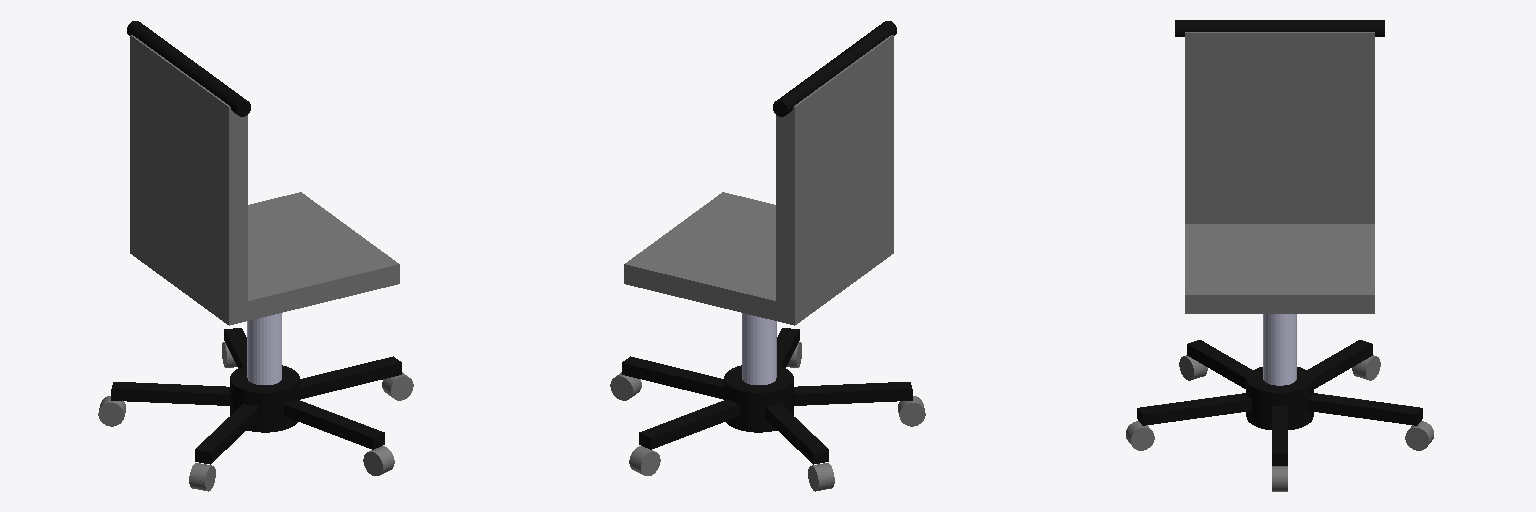
robot.urdf — office_chair:
<?xml version="1.0" ?>
<robot name="office_chair">

  <material name="black">
    <color rgba="0.1 0.1 0.1 1"/>
  </material>
  <material name="grey">
    <color rgba="0.5 0.5 0.5 1"/>
  </material>
  <material name="chrome">
    <color rgba="0.8 0.8 0.9 1"/>
  </material>
  <material name="red_target">
    <color rgba="1.0 0.0 0.0 1"/>
  </material>

  <link name="world"/>

  <link name="slide_link_x">
    <inertial>
        <mass value="0.01"/>
        <origin rpy="0 0 0" xyz="0 0 0"/>
        <inertia ixx="0.001" ixy="0" ixz="0" iyy="0.001" iyz="0" izz="0.001"/>
    </inertial>
  </link>

  <joint name="floor_slide_x" type="prismatic">
    <parent link="world"/>
    <child link="slide_link_x"/>
    <origin rpy="0 0 0" xyz="0 0 0"/>
    <axis xyz="1 0 0"/>
    <limit effort="1000" lower="-10.0" upper="10.0" velocity="5.0"/>
    <dynamics damping="10.0" friction="5.0"/>
  </joint>

  <link name="slide_link_y">
     <inertial>
        <mass value="0.01"/>
        <origin rpy="0 0 0" xyz="0 0 0"/>
        <inertia ixx="0.001" ixy="0" ixz="0" iyy="0.001" iyz="0" izz="0.001"/>
    </inertial>
  </link>

  <joint name="floor_slide_y" type="prismatic">
    <parent link="slide_link_x"/>
    <child link="slide_link_y"/>
    <origin rpy="0 0 0" xyz="0 0 0"/>
    <axis xyz="0 1 0"/>
    <limit effort="1000" lower="-10.0" upper="10.0" velocity="5.0"/>
    <dynamics damping="10.0" friction="5.0"/>
  </joint>

  <joint name="floor_rotate_z" type="continuous">
    <parent link="slide_link_y"/>
    <child link="base_link"/>
    <origin rpy="0 0 0" xyz="0 0 0.1"/>
    <axis xyz="0 0 1"/>
    <dynamics damping="1.0" friction="1.0"/>
  </joint>


  <link name="base_link">
    <visual>
      <geometry>
        <cylinder length="0.1" radius="0.08"/>
      </geometry>
      <material name="black"/>
    </visual>
    <collision>
      <geometry>
        <cylinder length="0.1" radius="0.08"/>
      </geometry>
    </collision>
    <inertial>
      <mass value="5.0"/>
      <origin rpy="0 0 0" xyz="0 0 0"/>
      <inertia ixx="0.1" ixy="0" ixz="0" iyy="0.1" iyz="0" izz="0.1"/>
    </inertial>
  </link>

  <link name="leg_1">
    <visual>
      <origin rpy="0 0 0" xyz="0.175 0 0"/>
      <geometry>
        <box size="0.35 0.04 0.03"/>
      </geometry>
      <material name="black"/>
    </visual>
    <visual>
      <origin rpy="1.5708 0 0" xyz="0.35 0 -0.05"/>
      <geometry>
        <cylinder length="0.04" radius="0.03"/>
      </geometry>
      <material name="grey"/>
    </visual>
    <collision>
      <origin rpy="0 0 0" xyz="0.175 0 -0.02"/>
      <geometry>
         <box size="0.35 0.05 0.1"/>
      </geometry>
    </collision>
    <inertial>
      <mass value="0.5"/>
      <inertia ixx="0.01" ixy="0" ixz="0" iyy="0.01" iyz="0" izz="0.01"/>
    </inertial>
  </link>
  <joint name="base_to_leg_1" type="fixed">
    <parent link="base_link"/>
    <child link="leg_1"/>
    <origin rpy="0 0 0" xyz="0 0 0"/>
  </joint>

  <link name="leg_2">
    <visual>
      <origin rpy="0 0 0" xyz="0.175 0 0"/>
      <geometry>
        <box size="0.35 0.04 0.03"/>
      </geometry>
      <material name="black"/>
    </visual>
    <visual>
      <origin rpy="1.5708 0 0" xyz="0.35 0 -0.05"/>
      <geometry>
        <cylinder length="0.04" radius="0.03"/>
      </geometry>
      <material name="grey"/>
    </visual>
    <collision>
      <origin rpy="0 0 0" xyz="0.175 0 -0.02"/>
      <geometry>
         <box size="0.35 0.05 0.1"/>
      </geometry>
    </collision>
    <inertial>
      <mass value="0.5"/>
      <inertia ixx="0.01" ixy="0" ixz="0" iyy="0.01" iyz="0" izz="0.01"/>
    </inertial>
  </link>
  <joint name="base_to_leg_2" type="fixed">
    <parent link="base_link"/>
    <child link="leg_2"/>
    <origin rpy="0 0 1.2566" xyz="0 0 0"/>
  </joint>

  <link name="leg_3">
    <visual>
      <origin rpy="0 0 0" xyz="0.175 0 0"/>
      <geometry>
        <box size="0.35 0.04 0.03"/>
      </geometry>
      <material name="black"/>
    </visual>
    <visual>
      <origin rpy="1.5708 0 0" xyz="0.35 0 -0.05"/>
      <geometry>
        <cylinder length="0.04" radius="0.03"/>
      </geometry>
      <material name="grey"/>
    </visual>
    <collision>
      <origin rpy="0 0 0" xyz="0.175 0 -0.02"/>
      <geometry>
         <box size="0.35 0.05 0.1"/>
      </geometry>
    </collision>
    <inertial>
      <mass value="0.5"/>
      <inertia ixx="0.01" ixy="0" ixz="0" iyy="0.01" iyz="0" izz="0.01"/>
    </inertial>
  </link>
  <joint name="base_to_leg_3" type="fixed">
    <parent link="base_link"/>
    <child link="leg_3"/>
    <origin rpy="0 0 2.5132" xyz="0 0 0"/>
  </joint>

  <link name="leg_4">
    <visual>
      <origin rpy="0 0 0" xyz="0.175 0 0"/>
      <geometry>
        <box size="0.35 0.04 0.03"/>
      </geometry>
      <material name="black"/>
    </visual>
    <visual>
      <origin rpy="1.5708 0 0" xyz="0.35 0 -0.05"/>
      <geometry>
        <cylinder length="0.04" radius="0.03"/>
      </geometry>
      <material name="grey"/>
    </visual>
    <collision>
      <origin rpy="0 0 0" xyz="0.175 0 -0.02"/>
      <geometry>
         <box size="0.35 0.05 0.1"/>
      </geometry>
    </collision>
    <inertial>
      <mass value="0.5"/>
      <inertia ixx="0.01" ixy="0" ixz="0" iyy="0.01" iyz="0" izz="0.01"/>
    </inertial>
  </link>
  <joint name="base_to_leg_4" type="fixed">
    <parent link="base_link"/>
    <child link="leg_4"/>
    <origin rpy="0 0 3.7699" xyz="0 0 0"/>
  </joint>

  <link name="leg_5">
    <visual>
      <origin rpy="0 0 0" xyz="0.175 0 0"/>
      <geometry>
        <box size="0.35 0.04 0.03"/>
      </geometry>
      <material name="black"/>
    </visual>
    <visual>
      <origin rpy="1.5708 0 0" xyz="0.35 0 -0.05"/>
      <geometry>
        <cylinder length="0.04" radius="0.03"/>
      </geometry>
      <material name="grey"/>
    </visual>
    <collision>
      <origin rpy="0 0 0" xyz="0.175 0 -0.02"/>
      <geometry>
         <box size="0.35 0.05 0.1"/>
      </geometry>
    </collision>
    <inertial>
      <mass value="0.5"/>
      <inertia ixx="0.01" ixy="0" ixz="0" iyy="0.01" iyz="0" izz="0.01"/>
    </inertial>
  </link>
  <joint name="base_to_leg_5" type="fixed">
    <parent link="base_link"/>
    <child link="leg_5"/>
    <origin rpy="0 0 5.0265" xyz="0 0 0"/>
  </joint>

  <link name="rod_link">
    <visual>
      <origin rpy="0 0 0" xyz="0 0 0.15"/>
      <geometry>
        <cylinder length="0.3" radius="0.04"/>
      </geometry>
      <material name="chrome"/>
    </visual>
    <collision>
      <origin rpy="0 0 0" xyz="0 0 0.15"/>
      <geometry>
        <cylinder length="0.3" radius="0.04"/>
      </geometry>
    </collision>
    <inertial>
      <mass value="2.0"/>
      <inertia ixx="0.05" ixy="0" ixz="0" iyy="0.05" iyz="0" izz="0.05"/>
    </inertial>
  </link>

  <joint name="seat_swivel" type="continuous">
    <parent link="base_link"/>
    <child link="rod_link"/>
    <origin rpy="0 0 0" xyz="0 0 0.05"/>
    <axis xyz="0 0 1"/>
    <dynamics damping="1.0" friction="0.5"/>
  </joint>

  <link name="seat_surface_link">
    <visual>
      <geometry>
        <box size="0.45 0.45 0.05"/>
      </geometry>
      <material name="grey"/>
    </visual>
    <collision>
      <geometry>
        <box size="0.45 0.45 0.05"/>
      </geometry>
    </collision>
    <inertial>
      <mass value="3.0"/>
      <inertia ixx="0.05" ixy="0" ixz="0" iyy="0.05" iyz="0" izz="0.05"/>
    </inertial>
  </link>

  <joint name="rod_to_seat" type="fixed">
    <parent link="rod_link"/>
    <child link="seat_surface_link"/>
    <origin rpy="0 0 0" xyz="0 0 0.3"/>
  </joint>

  <link name="backrest_link">
    <visual>
      <origin rpy="0 0 0" xyz="0 0 0.25"/>
      <geometry>
        <box size="0.05 0.45 0.5"/>
      </geometry>
      <material name="grey"/>
    </visual>
    <collision>
      <origin rpy="0 0 0" xyz="0 0 0.25"/>
      <geometry>
        <box size="0.05 0.45 0.5"/>
      </geometry>
    </collision>
    <inertial>
      <mass value="2.0"/>
      <inertia ixx="0.05" ixy="0" ixz="0" iyy="0.05" iyz="0" izz="0.05"/>
    </inertial>
  </link>

  <joint name="seat_to_backrest" type="fixed">
    <parent link="seat_surface_link"/>
    <child link="backrest_link"/>
    <origin rpy="0 0 0" xyz="-0.2 0 0.025"/>
  </joint>

  <link name="handle_link">
    <visual>
      <geometry>
        <cylinder length="0.5" radius="0.02"/>
      </geometry>
      <material name="black"/>
    </visual>
    <collision>
      <geometry>
        <cylinder length="0.5" radius="0.02"/>
      </geometry>
    </collision>
    <inertial>
      <mass value="0.5"/>
      <inertia ixx="0.01" ixy="0" ixz="0" iyy="0.01" iyz="0" izz="0.01"/>
    </inertial>
  </link>

  <joint name="backrest_to_handle" type="fixed">
    <parent link="backrest_link"/>
    <child link="handle_link"/>
    <origin rpy="1.5708 0 0" xyz="0 0 0.5"/>
  </joint>

  <link name="target_left_link">
    <visual>
      <geometry>
        <sphere radius="0.015"/>
      </geometry>
      <material name="red_target"/>
    </visual>
    <inertial>
      <mass value="0.01"/>
      <inertia ixx="0.001" ixy="0" ixz="0" iyy="0.001" iyz="0" izz="0.001"/>
    </inertial>
  </link>

  <joint name="handle_to_target_left" type="fixed">
    <parent link="handle_link"/>
    <child link="target_left_link"/>
    <origin rpy="0 0 0" xyz="0 0 0.2"/>
  </joint>

  <link name="target_right_link">
    <visual>
      <geometry>
        <sphere radius="0.015"/>
      </geometry>
      <material name="red_target"/>
    </visual>
    <inertial>
      <mass value="0.01"/>
      <inertia ixx="0.001" ixy="0" ixz="0" iyy="0.001" iyz="0" izz="0.001"/>
    </inertial>
  </link>

  <joint name="handle_to_target_right" type="fixed">
    <parent link="handle_link"/>
    <child link="target_right_link"/>
    <origin rpy="0 0 0" xyz="0 0 -0.2"/>
  </joint>

</robot>

<!-- <?xml version="1.0" ?>
<robot name="office_chair">

  <material name="black">
    <color rgba="0.1 0.1 0.1 1"/>
  </material>
  <material name="grey">
    <color rgba="0.5 0.5 0.5 1"/>
  </material>
  <material name="chrome">
    <color rgba="0.8 0.8 0.9 1"/>
  </material>
  <material name="red_target">
    <color rgba="1.0 0.0 0.0 1"/>
  </material>

  <link name="world"/>

  <link name="slide_link_x">
    <inertial>
      <mass value="0.1"/>
      <origin rpy="0 0 0" xyz="0 0 0"/>
      <inertia ixx="0.01" ixy="0" ixz="0" iyy="0.01" iyz="0" izz="0.01"/>
    </inertial>
  </link>

  <joint name="floor_slide_x" type="prismatic">
    <parent link="world"/>
    <child link="slide_link_x"/>
    <origin rpy="0 0 0" xyz="0 0 0"/>
    <axis xyz="1 0 0"/>
    <limit effort="1000" lower="-5.0" upper="5.0" velocity="2.0"/>
    <dynamics damping="10.0" friction="5.0"/>
  </joint>

  <link name="base_link">
    <visual>
      <geometry>
        <cylinder length="0.1" radius="0.08"/>
      </geometry>
      <material name="black"/>
    </visual>
    <collision>
      <geometry>
        <cylinder length="0.1" radius="0.08"/>
      </geometry>
    </collision>
    <inertial>
      <mass value="5.0"/>
      <origin rpy="0 0 0" xyz="0 0 0.1"/>
      <inertia ixx="0.1" ixy="0" ixz="0" iyy="0.1" iyz="0" izz="0.1"/>
    </inertial>
  </link>

  <joint name="floor_slide_y" type="prismatic">
    <parent link="slide_link_x"/>
    <child link="base_link"/>
    <origin rpy="0 0 0" xyz="0 0 0"/>
    <axis xyz="0 1 0"/>
    <limit effort="1000" lower="-5.0" upper="5.0" velocity="2.0"/>
    <dynamics damping="10.0" friction="5.0"/>
  </joint>

  <link name="leg_1">
    <visual>
      <origin rpy="0 0 0" xyz="0.175 0 0"/>
      <geometry>
        <box size="0.35 0.04 0.03"/>
      </geometry>
      <material name="black"/>
    </visual>
    <visual>
      <origin rpy="1.5708 0 0" xyz="0.35 0 -0.05"/>
      <geometry>
        <cylinder length="0.04" radius="0.03"/>
      </geometry>
      <material name="grey"/>
    </visual>
    <collision>
      <origin rpy="0 0 0" xyz="0.175 0 -0.02"/>
      <geometry>
         <box size="0.35 0.05 0.1"/>
      </geometry>
    </collision>
    <inertial>
      <mass value="0.5"/>
      <inertia ixx="0.01" ixy="0" ixz="0" iyy="0.01" iyz="0" izz="0.01"/>
    </inertial>
  </link>
  <joint name="base_to_leg_1" type="fixed">
    <parent link="base_link"/>
    <child link="leg_1"/>
    <origin rpy="0 0 0" xyz="0 0 0"/>
  </joint>

  <link name="leg_2">
    <visual>
      <origin rpy="0 0 0" xyz="0.175 0 0"/>
      <geometry>
        <box size="0.35 0.04 0.03"/>
      </geometry>
      <material name="black"/>
    </visual>
    <visual>
      <origin rpy="1.5708 0 0" xyz="0.35 0 -0.05"/>
      <geometry>
        <cylinder length="0.04" radius="0.03"/>
      </geometry>
      <material name="grey"/>
    </visual>
    <collision>
      <origin rpy="0 0 0" xyz="0.175 0 -0.02"/>
      <geometry>
         <box size="0.35 0.05 0.1"/>
      </geometry>
    </collision>
    <inertial>
      <mass value="0.5"/>
      <inertia ixx="0.01" ixy="0" ixz="0" iyy="0.01" iyz="0" izz="0.01"/>
    </inertial>
  </link>
  <joint name="base_to_leg_2" type="fixed">
    <parent link="base_link"/>
    <child link="leg_2"/>
    <origin rpy="0 0 1.2566" xyz="0 0 0"/>
  </joint>

  <link name="leg_3">
    <visual>
      <origin rpy="0 0 0" xyz="0.175 0 0"/>
      <geometry>
        <box size="0.35 0.04 0.03"/>
      </geometry>
      <material name="black"/>
    </visual>
    <visual>
      <origin rpy="1.5708 0 0" xyz="0.35 0 -0.05"/>
      <geometry>
        <cylinder length="0.04" radius="0.03"/>
      </geometry>
      <material name="grey"/>
    </visual>
    <collision>
      <origin rpy="0 0 0" xyz="0.175 0 -0.02"/>
      <geometry>
         <box size="0.35 0.05 0.1"/>
      </geometry>
    </collision>
    <inertial>
      <mass value="0.5"/>
      <inertia ixx="0.01" ixy="0" ixz="0" iyy="0.01" iyz="0" izz="0.01"/>
    </inertial>
  </link>
  <joint name="base_to_leg_3" type="fixed">
    <parent link="base_link"/>
    <child link="leg_3"/>
    <origin rpy="0 0 2.5132" xyz="0 0 0"/>
  </joint>

  <link name="leg_4">
    <visual>
      <origin rpy="0 0 0" xyz="0.175 0 0"/>
      <geometry>
        <box size="0.35 0.04 0.03"/>
      </geometry>
      <material name="black"/>
    </visual>
    <visual>
      <origin rpy="1.5708 0 0" xyz="0.35 0 -0.05"/>
      <geometry>
        <cylinder length="0.04" radius="0.03"/>
      </geometry>
      <material name="grey"/>
    </visual>
    <collision>
      <origin rpy="0 0 0" xyz="0.175 0 -0.02"/>
      <geometry>
         <box size="0.35 0.05 0.1"/>
      </geometry>
    </collision>
    <inertial>
      <mass value="0.5"/>
      <inertia ixx="0.01" ixy="0" ixz="0" iyy="0.01" iyz="0" izz="0.01"/>
    </inertial>
  </link>
  <joint name="base_to_leg_4" type="fixed">
    <parent link="base_link"/>
    <child link="leg_4"/>
    <origin rpy="0 0 3.7699" xyz="0 0 0"/>
  </joint>

  <link name="leg_5">
    <visual>
      <origin rpy="0 0 0" xyz="0.175 0 0"/>
      <geometry>
        <box size="0.35 0.04 0.03"/>
      </geometry>
      <material name="black"/>
    </visual>
    <visual>
      <origin rpy="1.5708 0 0" xyz="0.35 0 -0.05"/>
      <geometry>
        <cylinder length="0.04" radius="0.03"/>
      </geometry>
      <material name="grey"/>
    </visual>
    <collision>
      <origin rpy="0 0 0" xyz="0.175 0 -0.02"/>
      <geometry>
         <box size="0.35 0.05 0.1"/>
      </geometry>
    </collision>
    <inertial>
      <mass value="0.5"/>
      <inertia ixx="0.01" ixy="0" ixz="0" iyy="0.01" iyz="0" izz="0.01"/>
    </inertial>
  </link>
  <joint name="base_to_leg_5" type="fixed">
    <parent link="base_link"/>
    <child link="leg_5"/>
    <origin rpy="0 0 5.0265" xyz="0 0 0"/>
  </joint>

  <link name="rod_link">
    <visual>
      <origin rpy="0 0 0" xyz="0 0 0.15"/>
      <geometry>
        <cylinder length="0.3" radius="0.04"/>
      </geometry>
      <material name="chrome"/>
    </visual>
    <collision>
      <origin rpy="0 0 0" xyz="0 0 0.15"/>
      <geometry>
        <cylinder length="0.3" radius="0.04"/>
      </geometry>
    </collision>
    <inertial>
      <mass value="2.0"/>
      <inertia ixx="0.05" ixy="0" ixz="0" iyy="0.05" iyz="0" izz="0.05"/>
    </inertial>
  </link>

  <joint name="seat_swivel" type="continuous">
    <parent link="base_link"/>
    <child link="rod_link"/>
    <origin rpy="0 0 0" xyz="0 0 0.05"/>
    <axis xyz="0 0 1"/>
    <dynamics damping="1.0" friction="0.5"/>
  </joint>

  <link name="seat_surface_link">
    <visual>
      <geometry>
        <box size="0.45 0.45 0.05"/>
      </geometry>
      <material name="grey"/>
    </visual>
    <collision>
      <geometry>
        <box size="0.45 0.45 0.05"/>
      </geometry>
    </collision>
    <inertial>
      <mass value="3.0"/>
      <inertia ixx="0.05" ixy="0" ixz="0" iyy="0.05" iyz="0" izz="0.05"/>
    </inertial>
  </link>

  <joint name="rod_to_seat" type="fixed">
    <parent link="rod_link"/>
    <child link="seat_surface_link"/>
    <origin rpy="0 0 0" xyz="0 0 0.3"/>
  </joint>

  <link name="backrest_link">
    <visual>
      <origin rpy="0 0 0" xyz="0 0 0.25"/>
      <geometry>
        <box size="0.05 0.45 0.5"/>
      </geometry>
      <material name="grey"/>
    </visual>
    <collision>
      <origin rpy="0 0 0" xyz="0 0 0.25"/>
      <geometry>
        <box size="0.05 0.45 0.5"/>
      </geometry>
    </collision>
    <inertial>
      <mass value="2.0"/>
      <inertia ixx="0.05" ixy="0" ixz="0" iyy="0.05" iyz="0" izz="0.05"/>
    </inertial>
  </link>

  <joint name="seat_to_backrest" type="fixed">
    <parent link="seat_surface_link"/>
    <child link="backrest_link"/>
    <origin rpy="0 0 0" xyz="-0.2 0 0.025"/>
  </joint>

  <link name="handle_link">
    <visual>
      <geometry>
        <cylinder length="0.5" radius="0.02"/>
      </geometry>
      <material name="black"/>
    </visual>
    <collision>
      <geometry>
        <cylinder length="0.5" radius="0.02"/>
      </geometry>
    </collision>
    <inertial>
      <mass value="0.5"/>
      <inertia ixx="0.01" ixy="0" ixz="0" iyy="0.01" iyz="0" izz="0.01"/>
    </inertial>
  </link>

  <joint name="backrest_to_handle" type="fixed">
    <parent link="backrest_link"/>
    <child link="handle_link"/>
    <origin rpy="1.5708 0 0" xyz="0 0 0.5"/>
  </joint>

  <link name="target_left_link">
    <visual>
      <geometry>
        <sphere radius="0.015"/>
      </geometry>
      <material name="red_target"/>
    </visual>
    <inertial>
      <mass value="0.01"/>
      <inertia ixx="0.001" ixy="0" ixz="0" iyy="0.001" iyz="0" izz="0.001"/>
    </inertial>
  </link>

  <joint name="handle_to_target_left" type="fixed">
    <parent link="handle_link"/>
    <child link="target_left_link"/>
    <origin rpy="0 0 0" xyz="0 0 0.2"/>
  </joint>

  <link name="target_right_link">
    <visual>
      <geometry>
        <sphere radius="0.015"/>
      </geometry>
      <material name="red_target"/>
    </visual>
    <inertial>
      <mass value="0.01"/>
      <inertia ixx="0.001" ixy="0" ixz="0" iyy="0.001" iyz="0" izz="0.001"/>
    </inertial>
  </link>

  <joint name="handle_to_target_right" type="fixed">
    <parent link="handle_link"/>
    <child link="target_right_link"/>
    <origin rpy="0 0 0" xyz="0 0 -0.2"/>
  </joint>

</robot> -->

--- Render facts (derived) ---
Views: 3 orthographic renders of the robot side by side, from view 1: azimuth 30°, elevation 25°; view 2: azimuth 150°, elevation 25°; view 3: azimuth 270°, elevation 25°.
Robot: office_chair — 15 links, 14 joints (2 continuous, 2 prismatic, 10 fixed); root link world; default pose: every joint at zero.
Visible links, largest first — view 1: backrest_link, seat_surface_link, leg_3, base_link, leg_5, leg_1, rod_link, leg_4, handle_link, leg_2; view 2: backrest_link, seat_surface_link, leg_4, base_link, leg_2, leg_1, rod_link, leg_3, handle_link, leg_5; view 3: backrest_link, seat_surface_link, base_link, leg_2, leg_5, handle_link, rod_link, leg_3, leg_4, leg_1.
Boxes of the visible links, x1,y1,x2,y2 form: backrest_link: [130, 35, 247, 305]; seat_surface_link: [130, 192, 399, 325]; leg_3: [98, 382, 229, 426]; base_link: [230, 365, 299, 432]; leg_5: [284, 399, 394, 475]; leg_1: [300, 356, 413, 400]; rod_link: [247, 313, 281, 384]; leg_4: [189, 404, 258, 491]; handle_link: [127, 21, 250, 116]; leg_2: [222, 328, 246, 367]; backrest_link: [776, 35, 893, 305]; seat_surface_link: [624, 192, 893, 325]; leg_4: [794, 382, 925, 426]; base_link: [724, 365, 793, 432]; leg_2: [629, 399, 739, 475]; leg_1: [610, 356, 723, 400]; rod_link: [742, 313, 776, 384]; leg_3: [765, 404, 834, 491]; handle_link: [773, 21, 896, 116]; leg_5: [777, 328, 801, 367]; backrest_link: [1185, 32, 1374, 223]; seat_surface_link: [1185, 224, 1374, 313]; base_link: [1246, 367, 1313, 429]; leg_2: [1308, 393, 1433, 450]; leg_5: [1126, 393, 1251, 450]; handle_link: [1175, 20, 1384, 36]; rod_link: [1263, 314, 1296, 385]; leg_3: [1307, 340, 1380, 388]; leg_4: [1179, 340, 1252, 388]; leg_1: [1272, 406, 1287, 491].
Bounding box of the posed robot: 0.6992 × 0.7352 × 0.975 m (x, y, z).
Geometry: primitives only (box / cylinder / sphere), no mesh files.
